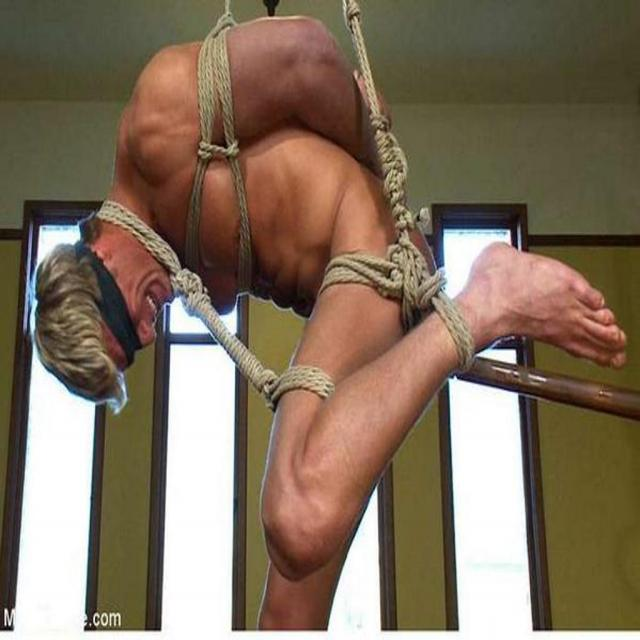nomask: (95, 266, 171, 376)
